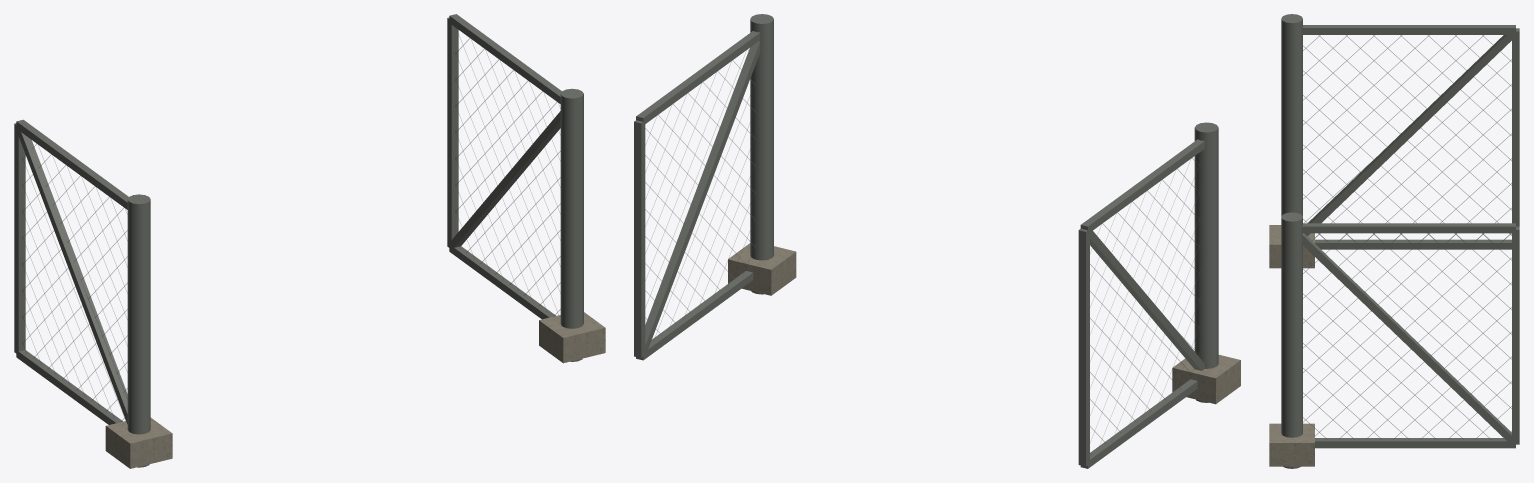
Rendered from fence_gate.glb.
The picture shows the model from 3 angles, left to right: view 1: azimuth 30°, elevation 25°; view 2: azimuth 150°, elevation 25°; view 3: azimuth 270°, elevation 25°; orthographic projection. The views are drawn at different scales.
Parts seen in each view (by area): view 1: Gate_leaf_-1_frame_separate, Gate_leaf_1_frame_separate, Gate_post_-2.15, Gate_post_2.15, Gate_leaf_-1_chain_separate, Gate_post_foundation_-2.15, Gate_leaf_1_chain_separate, Gate_post_foundation_2.15; view 2: Gate_leaf_1_frame_separate, Gate_leaf_-1_frame_separate, Gate_post_-2.15, Gate_post_2.15, Gate_leaf_-1_chain_separate, Gate_leaf_1_chain_separate, Gate_post_foundation_2.15, Gate_post_foundation_-2.15; view 3: Gate_leaf_1_frame_separate, Gate_leaf_-1_frame_separate, Gate_post_2.15, Gate_post_-2.15, Gate_leaf_1_chain_separate, Gate_leaf_-1_chain_separate, Gate_post_foundation_2.15, Gate_post_foundation_-2.15.
Part boxes in pixels (x1,y1,x2,y2): Gate_leaf_-1_frame_separate: [14, 119, 128, 424]; Gate_leaf_1_frame_separate: [447, 14, 561, 319]; Gate_post_-2.15: [127, 194, 150, 467]; Gate_post_2.15: [560, 88, 583, 361]; Gate_leaf_-1_chain_separate: [22, 144, 127, 421]; Gate_post_foundation_-2.15: [105, 417, 172, 468]; Gate_leaf_1_chain_separate: [455, 27, 560, 315]; Gate_post_foundation_2.15: [539, 312, 605, 363]; Gate_leaf_1_frame_separate: [634, 31, 760, 360]; Gate_leaf_-1_frame_separate: [1078, 139, 1204, 468]; Gate_post_-2.15: [1194, 122, 1218, 402]; Gate_post_2.15: [750, 14, 773, 294]; Gate_leaf_-1_chain_separate: [1090, 158, 1200, 454]; Gate_leaf_1_chain_separate: [645, 50, 755, 341]; Gate_post_foundation_2.15: [728, 243, 796, 295]; Gate_post_foundation_-2.15: [1172, 354, 1240, 404]; Gate_leaf_1_frame_separate: [1302, 223, 1519, 448]; Gate_leaf_-1_frame_separate: [1302, 25, 1519, 249]; Gate_post_2.15: [1281, 212, 1302, 468]; Gate_post_-2.15: [1281, 14, 1302, 216]; Gate_leaf_1_chain_separate: [1303, 233, 1511, 439]; Gate_leaf_-1_chain_separate: [1303, 35, 1511, 240]; Gate_post_foundation_2.15: [1269, 423, 1314, 466]; Gate_post_foundation_-2.15: [1269, 225, 1314, 268].
Size of the model in its own units: 4.72 by 2.5 by 2.3.
Materials: 3 (2 with a texture image).
